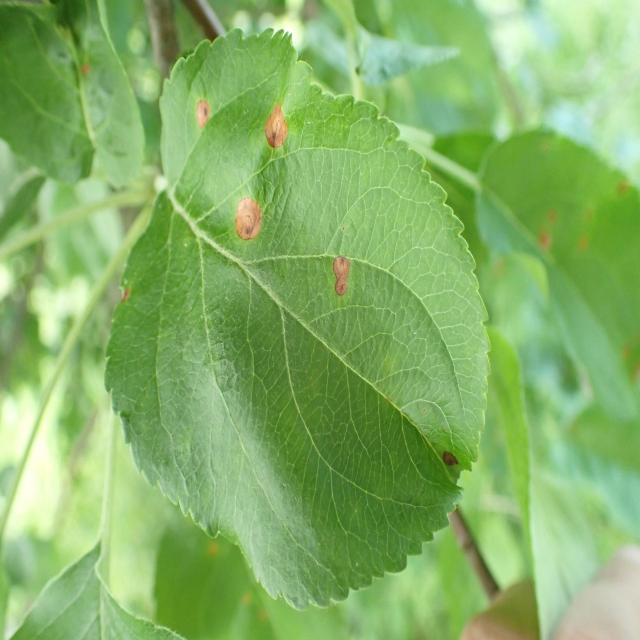Black Rot: (260, 91, 298, 176), (225, 192, 265, 251), (325, 244, 357, 314), (190, 88, 213, 146)
